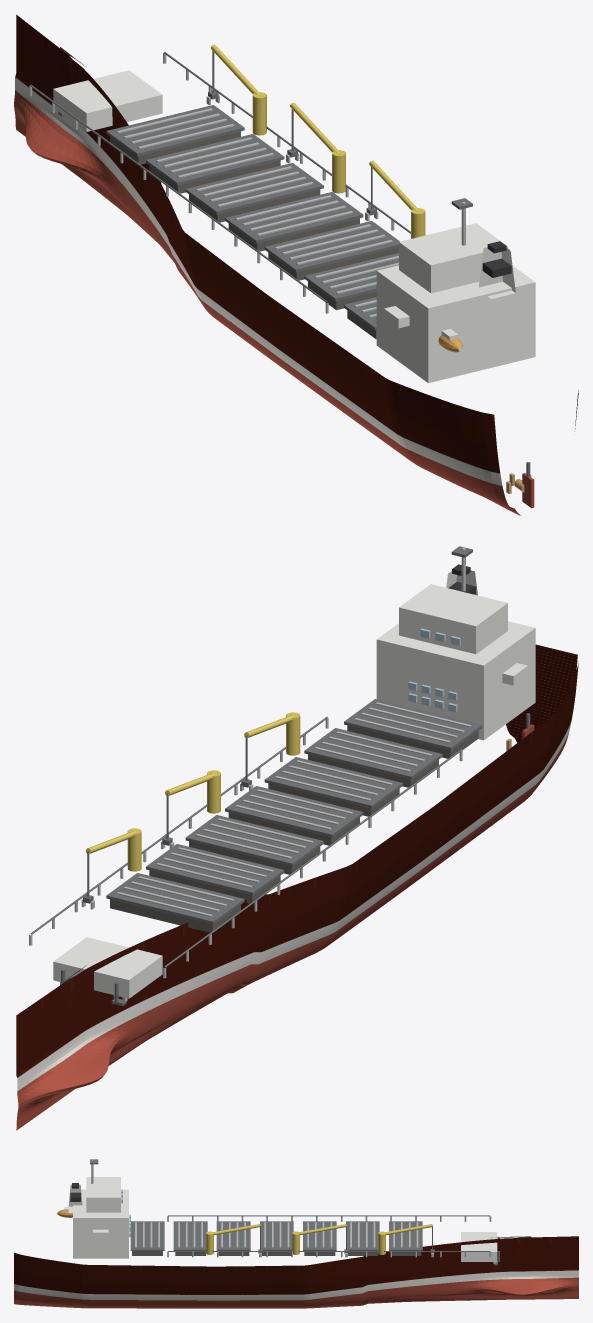
Rendered from bulk.glb.
The picture shows the model from 3 angles, top to bottom: view 1: azimuth 30°, elevation 25°; view 2: azimuth 150°, elevation 25°; view 3: azimuth 270°, elevation 25°; orthographic projection. The views are drawn at different scales.
Visible parts, largest first — view 1: ship; view 2: ship; view 3: ship.
Boxes of the visible parts, <box> form: ship: <box>14,14,578,515</box>; ship: <box>16,546,578,1130</box>; ship: <box>14,1159,578,1308</box>.
Size of the model in its own units: 0.749 by 1.12 by 4.03.
12 materials, 1 textured.
